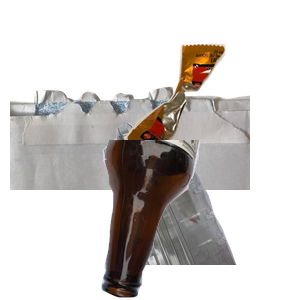glass: (99, 140, 300, 300)
paper: (10, 84, 250, 264)
plastic: (55, 120, 284, 300)
trash: (122, 41, 300, 190)
